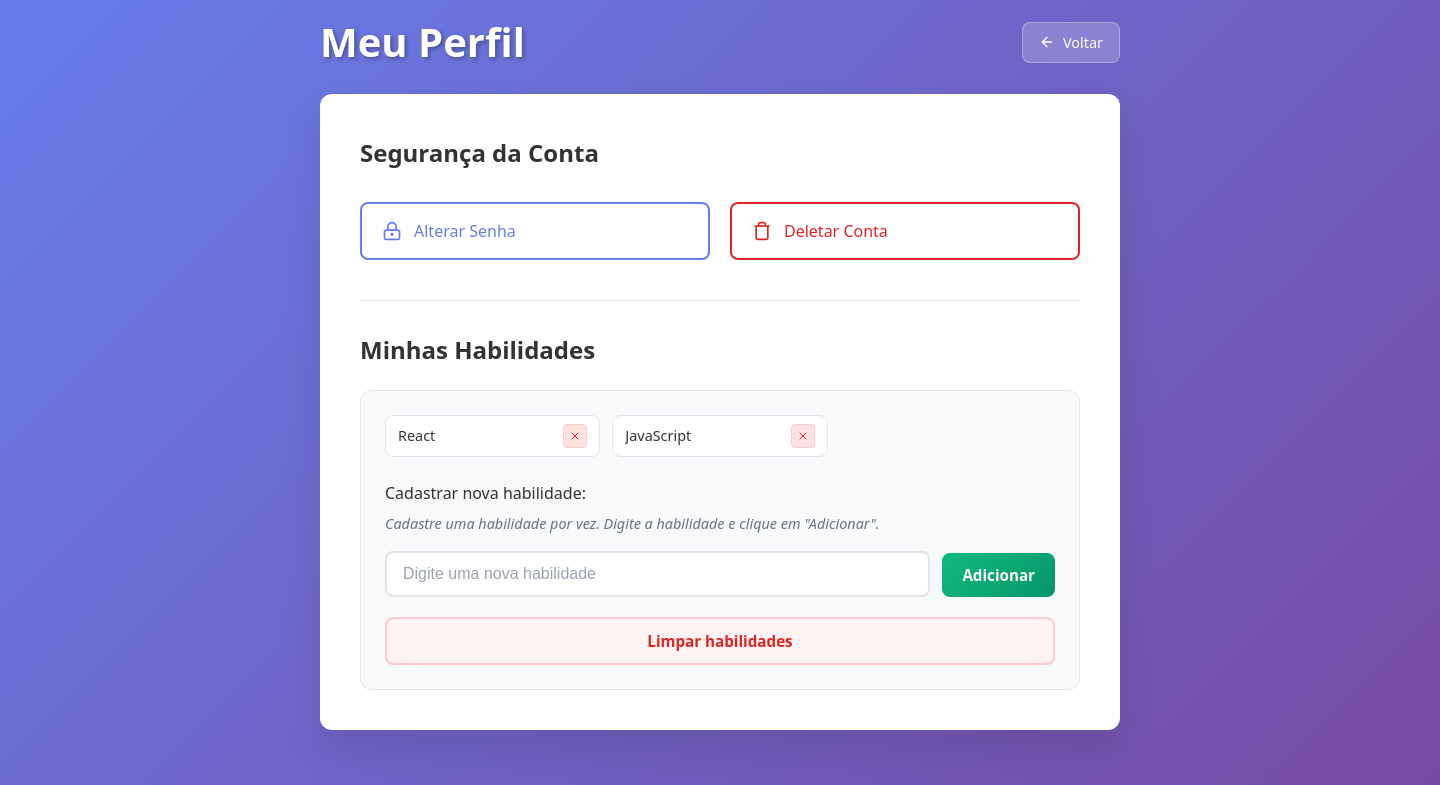
it: Profile - Skills Auto Focus › remove todas as habilidades com confirmação
Click the button "Limpar habilidades".
click(720, 640)  # box [385, 616, 1055, 664]
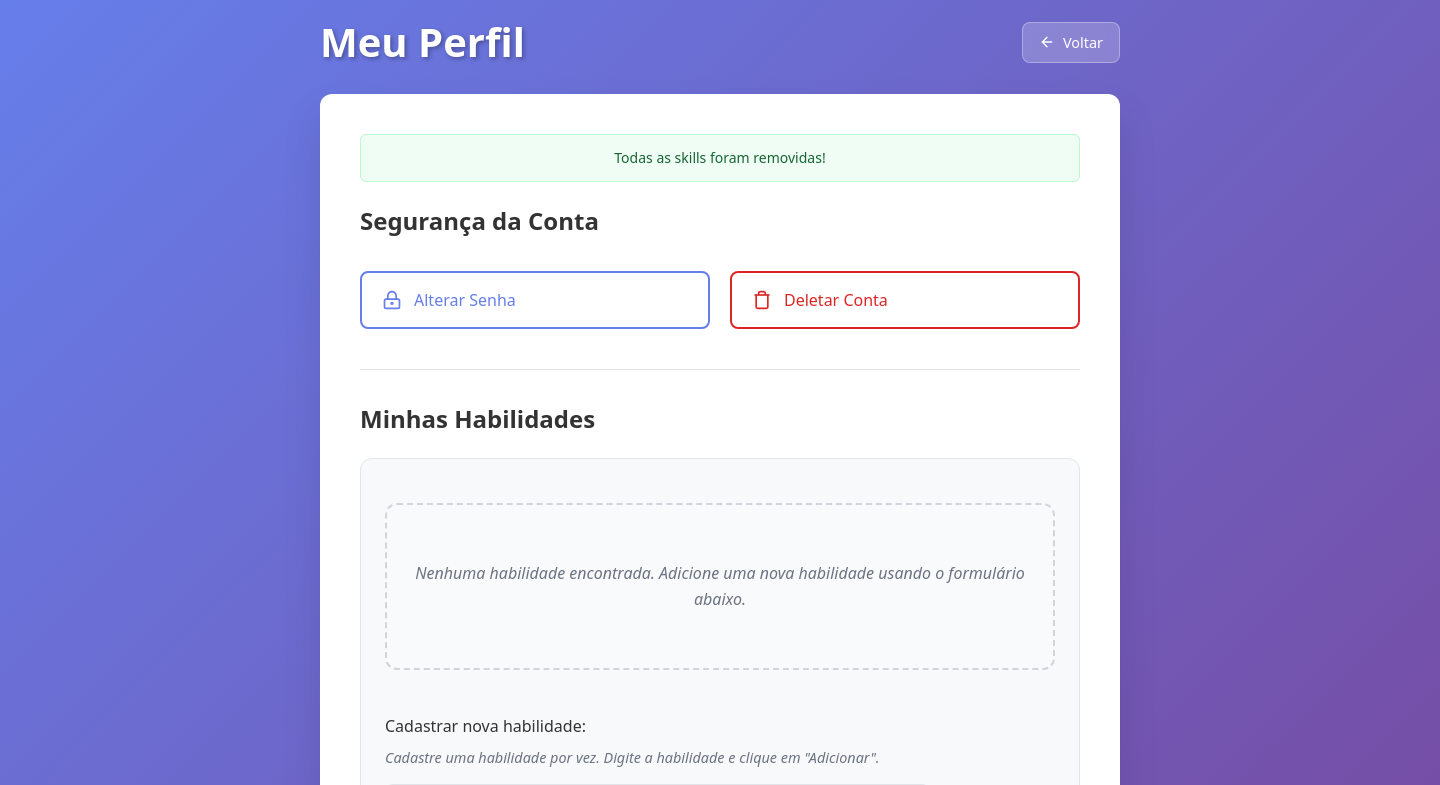
Expected: the text "Todas as skills foram removidas!" is shown, [360, 134, 1080, 182]
